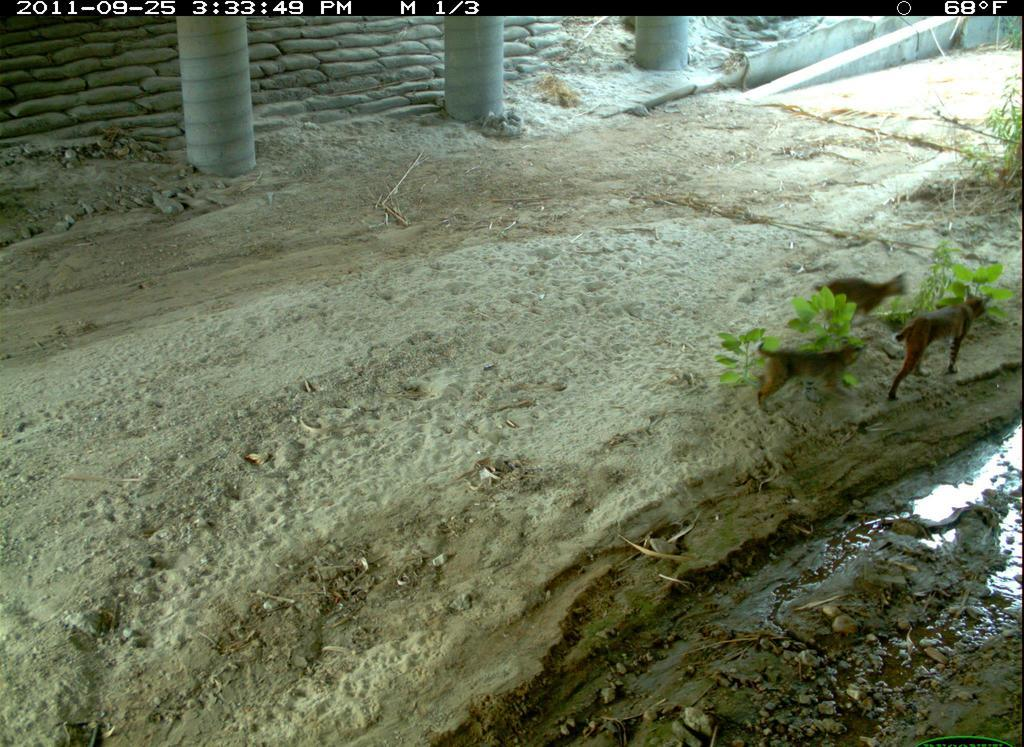bobcat: (886, 289, 996, 400), (742, 333, 877, 415), (806, 269, 911, 331)
